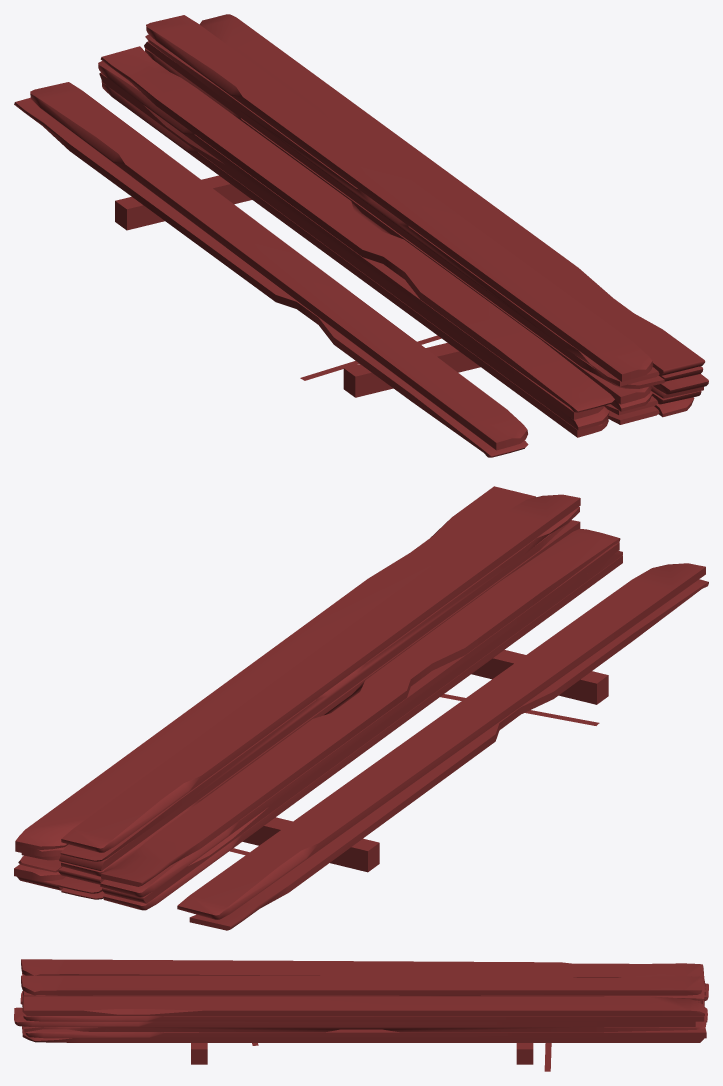
Rendered from SM_WoodPlankPack04.fbx.
3 views of the same model, one above another, from view 1: azimuth 30°, elevation 25°; view 2: azimuth 150°, elevation 25°; view 3: azimuth 270°, elevation 25° (orthographic). The views are drawn at different scales.
Parts seen in each view (by area): view 1: WoodPlankPack04; view 2: WoodPlankPack04; view 3: WoodPlankPack04.
Boxes of the visible parts, x1,y1,x2,y2 form: WoodPlankPack04: (14,14,708,457); WoodPlankPack04: (14,486,708,930); WoodPlankPack04: (14,959,708,1071).
Size of the model in its own units: 105 by 25.97 by 305.
